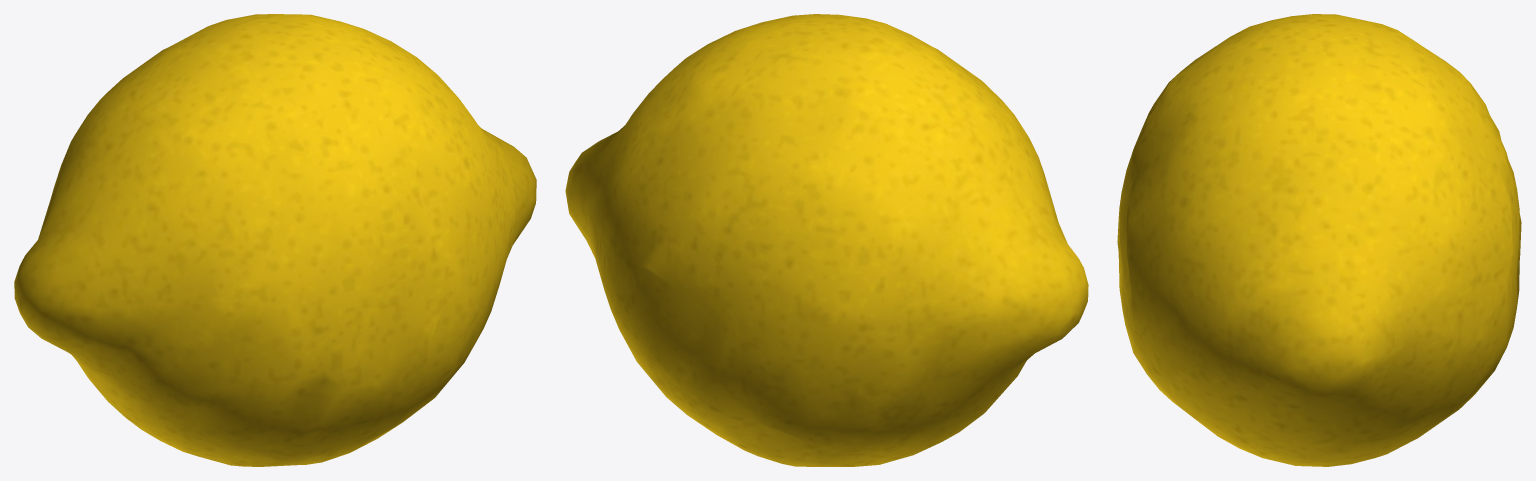
The model's file is lemon.glb.
3 views of the same model, side by side, from view 1: azimuth 30°, elevation 25°; view 2: azimuth 150°, elevation 25°; view 3: azimuth 270°, elevation 25° (orthographic).
Visible parts, largest first — view 1: tripo_node_3740e96e-14ef-43fd-990b-a251357eeee6; view 2: tripo_node_3740e96e-14ef-43fd-990b-a251357eeee6; view 3: tripo_node_3740e96e-14ef-43fd-990b-a251357eeee6.
Boxes of the visible parts, x1,y1,x2,y2 form: tripo_node_3740e96e-14ef-43fd-990b-a251357eeee6: [14, 14, 536, 466]; tripo_node_3740e96e-14ef-43fd-990b-a251357eeee6: [565, 14, 1088, 466]; tripo_node_3740e96e-14ef-43fd-990b-a251357eeee6: [1117, 14, 1521, 466].
Size of the model in its own units: 0.9773 by 0.7692 by 0.685.
Materials: 1 (1 with a texture image).
